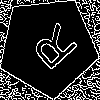R: (23, 21, 80, 79)
